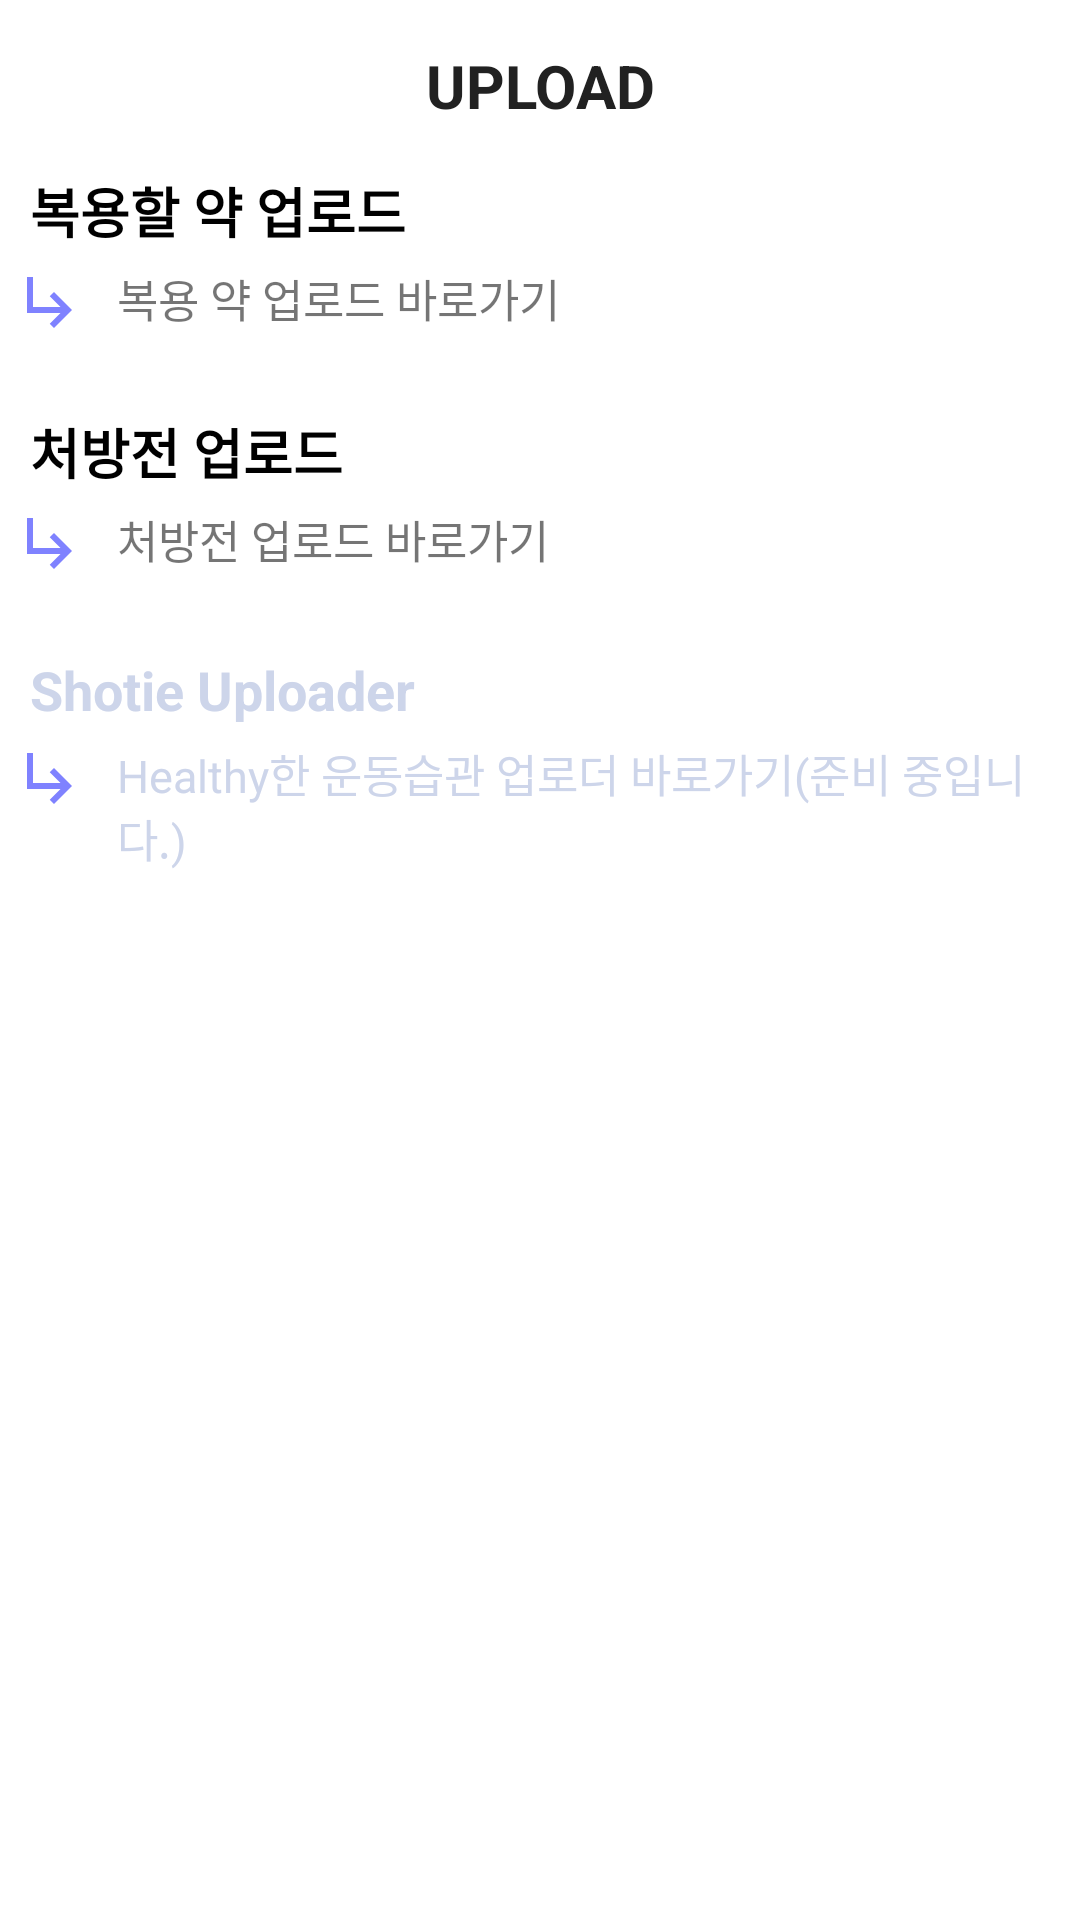

Point at icon controls on the screen. Image size 1080×1920, points as point (x, y).
subdirectory arrow right: point (49, 302), point (49, 543), point (49, 778)
